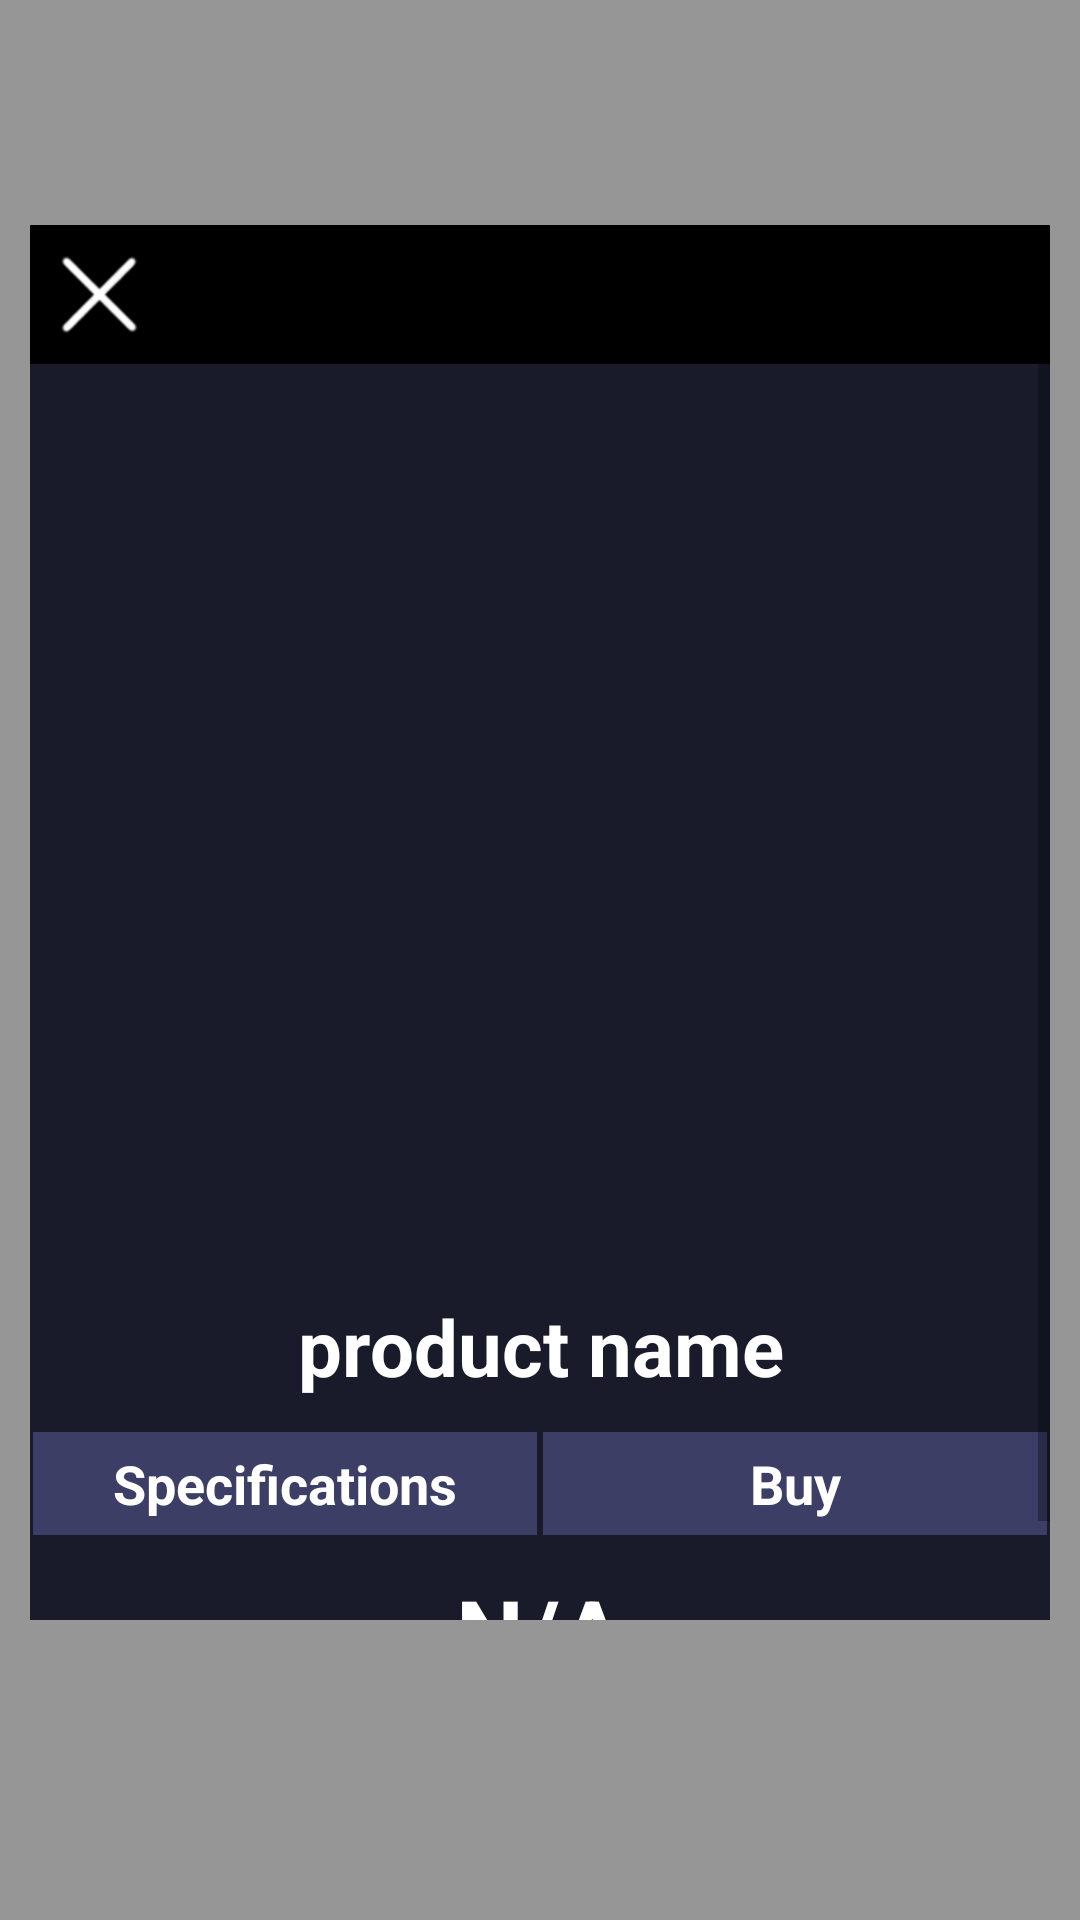

Named icons in this screenshot (1080*1920) and their centers, point (x, y):
close mark: point (99, 295)
